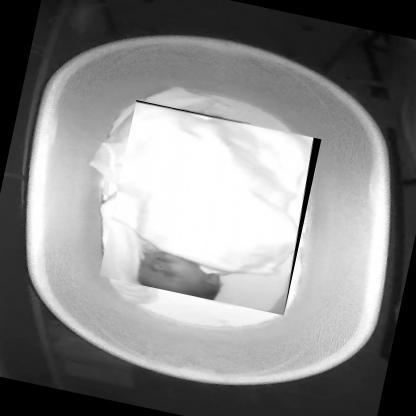baby: (137, 249, 221, 300)
